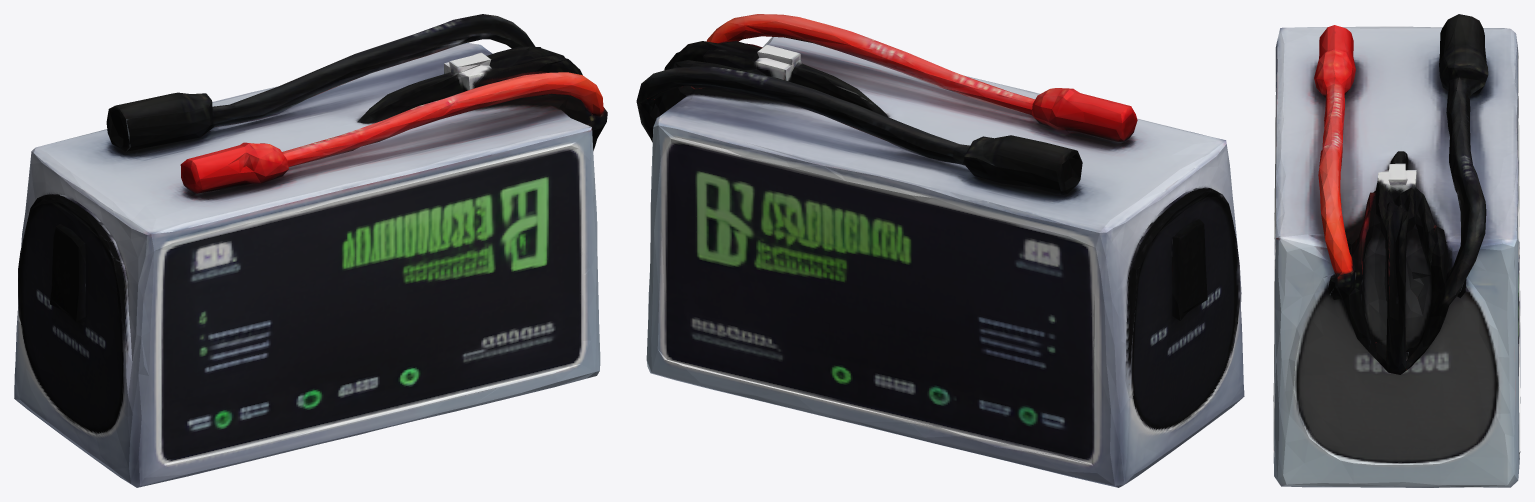
File: battery.glb
3 renders of one model, left to right at view 1: azimuth 30°, elevation 25°; view 2: azimuth 150°, elevation 25°; view 3: azimuth 270°, elevation 25°, orthographic. The views are drawn at different scales.
Parts seen in each view (by area): view 1: world; view 2: world; view 3: world.
Part boxes in pixels (box(x1,y1,x2,y2)): world: box(14, 14, 607, 487); world: box(636, 14, 1244, 487); world: box(1273, 14, 1520, 487).
Size of the model in its own units: 0.7037 by 0.3818 by 0.2949.
Materials: 1 (1 with a texture image).
